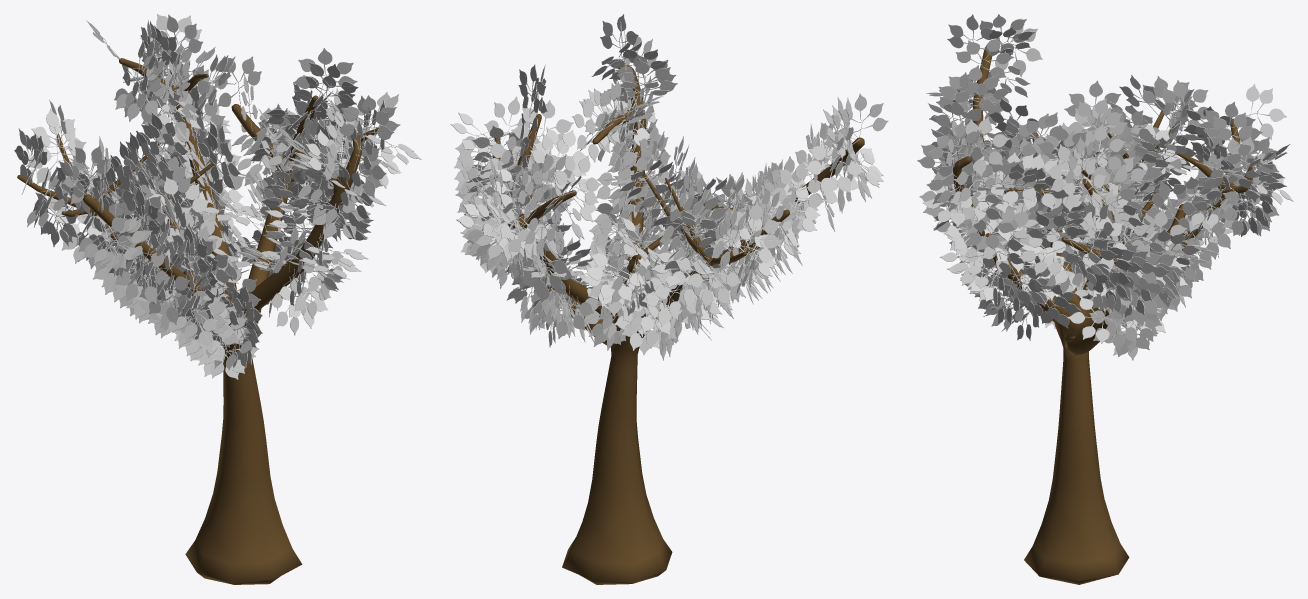
Rendered from baum3.fbx.
3 views of the same model, side by side, from view 1: azimuth 30°, elevation 25°; view 2: azimuth 150°, elevation 25°; view 3: azimuth 270°, elevation 25° (orthographic). The views are drawn at different scales.
Visible parts, largest first — view 1: Tree, Tree|leaaf|Dupli|7.0.0.0.0.0.0.0.0.0, Tree|leaaf|Dupli|346.0.0.0.0.0.0.0.0.0, Tree|leaaf|Dupli|52.0.0.0.0.0.0.0.0.0, Tree|leaaf|Dupli|73.0.0.0.0.0.0.0.0.0, Tree|leaaf|Dupli|391.0.0.0.0.0.0.0.0.0, Tree|leaaf|Dupli|329.0.0.0.0.0.0.0.0.0, Tree|leaaf|Dupli|345.0.0.0.0.0.0.0.0.0, Tree|leaaf|Dupli|469.0.0.0.0.0.0.0.0.0, Tree|leaaf|Dupli|437.0.0.0.0.0.0.0.0.0, Tree|leaaf|Dupli|2.0.0.0.0.0.0.0.0.0, Tree|leaaf|Dupli|24.0.0.0.0.0.0.0.0.0 (+25 smaller); view 2: Tree, Tree|leaaf|Dupli|72.0.0.0.0.0.0.0.0.0, Tree|leaaf|Dupli|473.0.0.0.0.0.0.0.0.0, Tree|leaaf|Dupli|212.0.0.0.0.0.0.0.0.0, Tree|leaaf|Dupli|217.0.0.0.0.0.0.0.0.0, Tree|leaaf|Dupli|269.0.0.0.0.0.0.0.0.0, Tree|leaaf|Dupli|471.0.0.0.0.0.0.0.0.0, Tree|leaaf|Dupli|340.0.0.0.0.0.0.0.0.0, Tree|leaaf|Dupli|34.0.0.0.0.0.0.0.0.0, Tree|leaaf|Dupli|71.0.0.0.0.0.0.0.0.0, Tree|leaaf|Dupli|83.0.0.0.0.0.0.0.0.0, Tree|leaaf|Dupli|451.0.0.0.0.0.0.0.0.0 (+14 smaller); view 3: Tree, Tree|leaaf|Dupli|393.0.0.0.0.0.0.0.0.0, Tree|leaaf|Dupli|0.0.0.0.0.0.0.0.0.0, Tree|leaaf|Dupli|314.0.0.0.0.0.0.0.0.0, Tree|leaaf|Dupli|497.0.0.0.0.0.0.0.0.0, Tree|leaaf|Dupli|31.0.0.0.0.0.0.0.0.0, Tree|leaaf|Dupli|5.0.0.0.0.0.0.0.0.0, Tree|leaaf|Dupli|3.0.0.0.0.0.0.0.0.0, Tree|leaaf|Dupli|208.0.0.0.0.0.0.0.0.0, Tree|leaaf|Dupli|200.0.0.0.0.0.0.0.0.0, Tree|leaaf|Dupli|342.0.0.0.0.0.0.0.0.0, Tree|leaaf|Dupli|328.0.0.0.0.0.0.0.0.0 (+39 smaller).
Boxes of the visible parts, left/top/right/bottom form: Tree: left=17, top=58, right=378, bottom=584; Tree|leaaf|Dupli|7.0.0.0.0.0.0.0.0.0: left=114, top=252, right=169, bottom=303; Tree|leaaf|Dupli|346.0.0.0.0.0.0.0.0.0: left=293, top=48, right=357, bottom=97; Tree|leaaf|Dupli|52.0.0.0.0.0.0.0.0.0: left=172, top=286, right=228, bottom=341; Tree|leaaf|Dupli|73.0.0.0.0.0.0.0.0.0: left=66, top=145, right=108, bottom=197; Tree|leaaf|Dupli|391.0.0.0.0.0.0.0.0.0: left=339, top=95, right=400, bottom=144; Tree|leaaf|Dupli|329.0.0.0.0.0.0.0.0.0: left=212, top=56, right=261, bottom=108; Tree|leaaf|Dupli|345.0.0.0.0.0.0.0.0.0: left=305, top=62, right=358, bottom=105; Tree|leaaf|Dupli|469.0.0.0.0.0.0.0.0.0: left=115, top=66, right=169, bottom=121; Tree|leaaf|Dupli|437.0.0.0.0.0.0.0.0.0: left=146, top=176, right=209, bottom=227; Tree|leaaf|Dupli|2.0.0.0.0.0.0.0.0.0: left=93, top=216, right=147, bottom=272; Tree|leaaf|Dupli|24.0.0.0.0.0.0.0.0.0: left=139, top=276, right=189, bottom=325; Tree: left=493, top=64, right=864, bottom=584; Tree|leaaf|Dupli|72.0.0.0.0.0.0.0.0.0: left=805, top=146, right=863, bottom=195; Tree|leaaf|Dupli|473.0.0.0.0.0.0.0.0.0: left=585, top=253, right=645, bottom=301; Tree|leaaf|Dupli|212.0.0.0.0.0.0.0.0.0: left=687, top=259, right=741, bottom=308; Tree|leaaf|Dupli|217.0.0.0.0.0.0.0.0.0: left=723, top=201, right=781, bottom=251; Tree|leaaf|Dupli|269.0.0.0.0.0.0.0.0.0: left=770, top=160, right=823, bottom=211; Tree|leaaf|Dupli|471.0.0.0.0.0.0.0.0.0: left=553, top=154, right=601, bottom=204; Tree|leaaf|Dupli|340.0.0.0.0.0.0.0.0.0: left=511, top=100, right=573, bottom=149; Tree|leaaf|Dupli|34.0.0.0.0.0.0.0.0.0: left=617, top=60, right=677, bottom=103; Tree|leaaf|Dupli|71.0.0.0.0.0.0.0.0.0: left=835, top=93, right=888, bottom=140; Tree|leaaf|Dupli|83.0.0.0.0.0.0.0.0.0: left=542, top=284, right=594, bottom=338; Tree|leaaf|Dupli|451.0.0.0.0.0.0.0.0.0: left=474, top=219, right=532, bottom=260; Tree: left=953, top=47, right=1252, bottom=584; Tree|leaaf|Dupli|393.0.0.0.0.0.0.0.0.0: left=962, top=117, right=1009, bottom=176; Tree|leaaf|Dupli|0.0.0.0.0.0.0.0.0.0: left=955, top=37, right=1014, bottom=78; Tree|leaaf|Dupli|314.0.0.0.0.0.0.0.0.0: left=1018, top=228, right=1070, bottom=276; Tree|leaaf|Dupli|497.0.0.0.0.0.0.0.0.0: left=1084, top=124, right=1126, bottom=178; Tree|leaaf|Dupli|31.0.0.0.0.0.0.0.0.0: left=1233, top=84, right=1286, bottom=139; Tree|leaaf|Dupli|5.0.0.0.0.0.0.0.0.0: left=936, top=72, right=996, bottom=111; Tree|leaaf|Dupli|3.0.0.0.0.0.0.0.0.0: left=955, top=74, right=1010, bottom=113; Tree|leaaf|Dupli|208.0.0.0.0.0.0.0.0.0: left=1162, top=80, right=1208, bottom=126; Tree|leaaf|Dupli|200.0.0.0.0.0.0.0.0.0: left=1065, top=98, right=1122, bottom=145; Tree|leaaf|Dupli|342.0.0.0.0.0.0.0.0.0: left=1061, top=158, right=1106, bottom=207; Tree|leaaf|Dupli|328.0.0.0.0.0.0.0.0.0: left=1152, top=181, right=1196, bottom=231.
Size of the model in its own units: 359 by 382 by 503.
6 materials, 1 textured.
